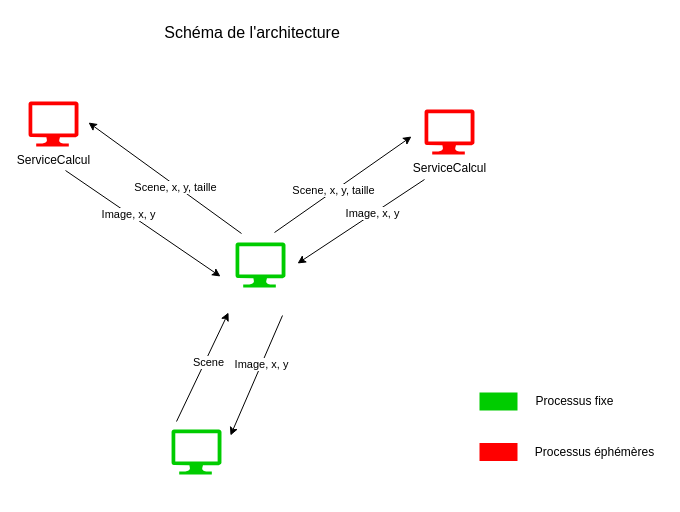
This 680x512 diagram has some shape labels left out. Here are the shapes that lost their labels. From the top down, the centre of each, then its label:
At point 260,264: "ServiceCentral".
At point 196,451: "ServiceClient".
